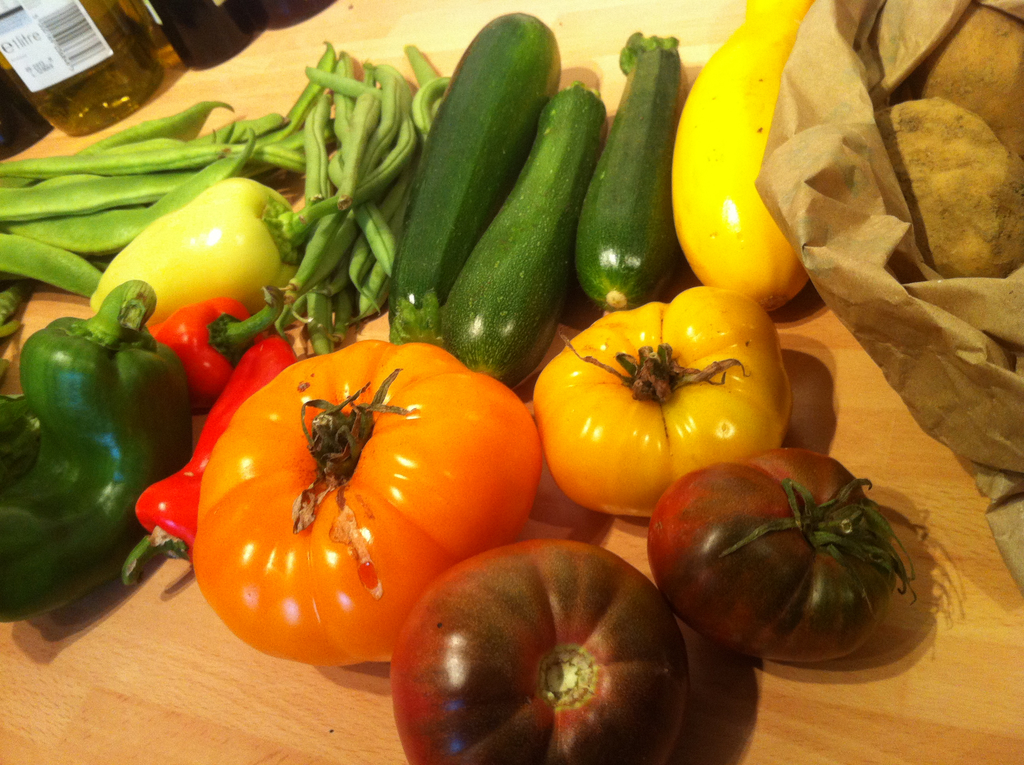Tomato: (177, 352, 504, 667), (389, 539, 694, 764), (647, 442, 916, 670), (531, 286, 794, 519)
